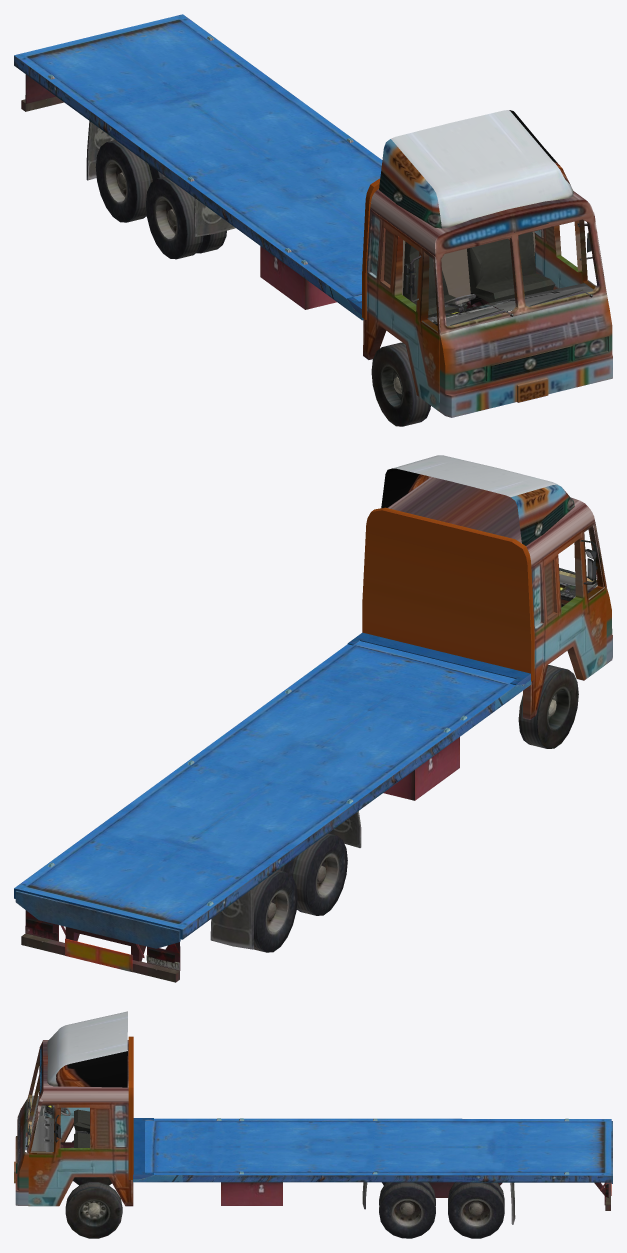
Rendered from ashok_leyland_truck.glb.
3 renders of one model, top to bottom at view 1: azimuth 30°, elevation 25°; view 2: azimuth 150°, elevation 25°; view 3: azimuth 270°, elevation 25°, orthographic. The views are drawn at different scales.
Parts seen in each view (by area): view 1: Object_4, Object_2, Object_3; view 2: Object_4, Object_2, Object_3; view 3: Object_4, Object_2, Object_3.
Part boxes in pixels (left/top/right/bottom): Object_4: left=14, top=14, right=507, bottom=426; Object_2: left=362, top=178, right=612, bottom=417; Object_3: left=379, top=110, right=592, bottom=325; Object_4: left=14, top=632, right=578, bottom=982; Object_2: left=362, top=477, right=612, bottom=719; Object_3: left=381, top=455, right=597, bottom=584; Object_4: left=60, top=1118, right=612, bottom=1238; Object_2: left=14, top=1036, right=133, bottom=1206; Object_3: left=25, top=1011, right=127, bottom=1146.
Bounding box in the file's own units: 0.4561 × 0.6074 × 1.83.
3 materials, 3 textured.
